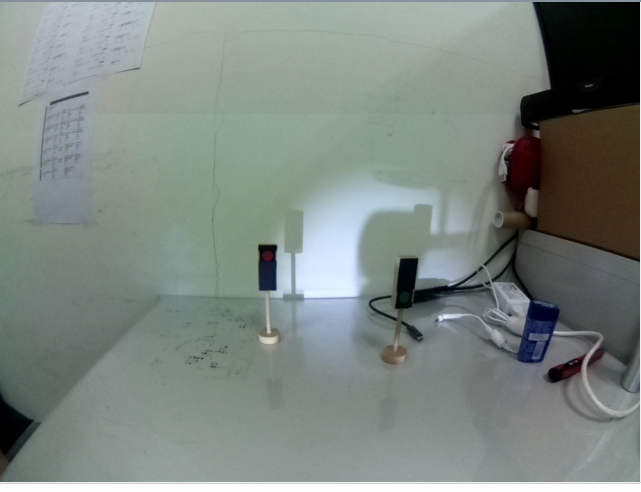Green: (391, 252, 419, 312)
Red: (255, 239, 280, 293)
